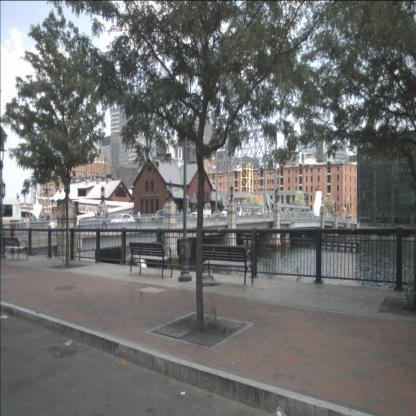human-pedestrian-adult: (25, 212, 30, 248), (136, 209, 141, 229), (216, 206, 220, 222), (309, 209, 312, 218), (266, 208, 268, 217)
vehicle-car: (47, 216, 78, 234), (110, 214, 134, 228), (151, 210, 173, 224), (220, 208, 234, 220), (211, 212, 222, 221), (246, 210, 256, 217), (239, 211, 246, 218), (257, 210, 263, 217)
vehicle-truck: (191, 208, 211, 221)
